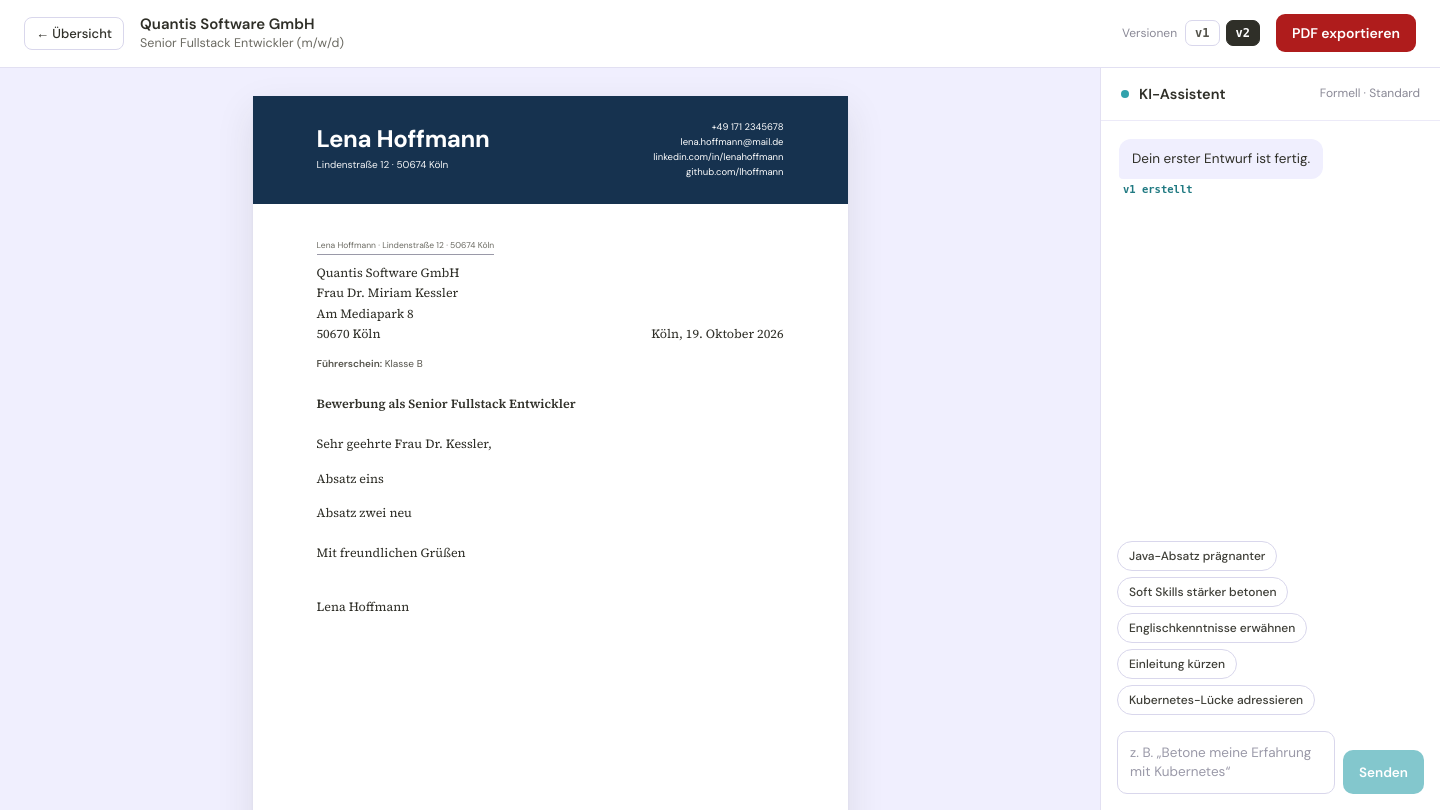
Test: EditorComponent › shows a banner for older versions
The width and height of the screenshot is (1440, 810).
Click the button "v1". click: point(1202, 33)
box: [1185,20,1220,46]
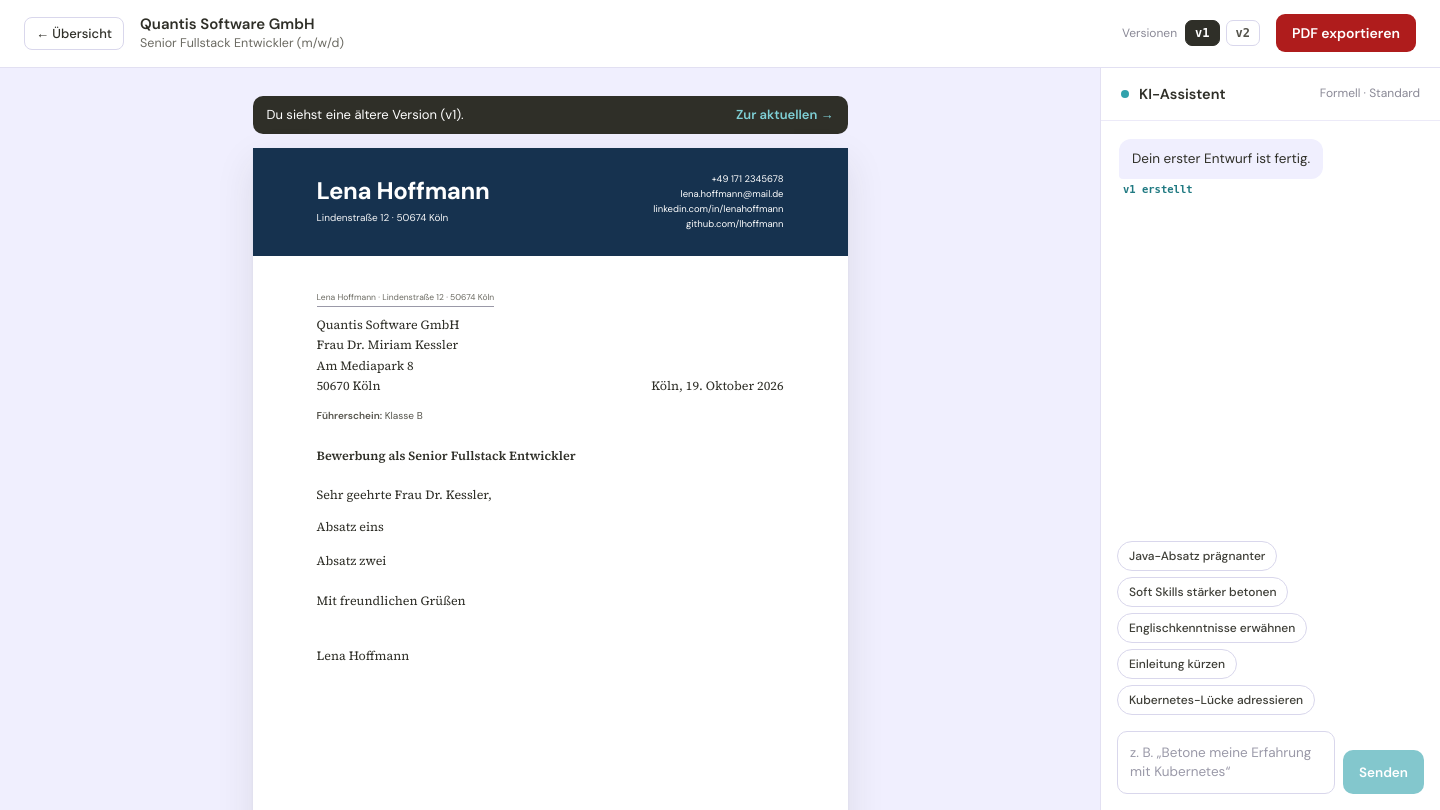
Expected: the message with class "old-banner" shows "Du siehst eine ältere Version (v1).", [266,106,464,122]
Expected: the text "Absatz zwei" is shown, [316,552,386,569]
Click the button with class "to-latest". click: point(785, 115)
box: [736,106,834,123]
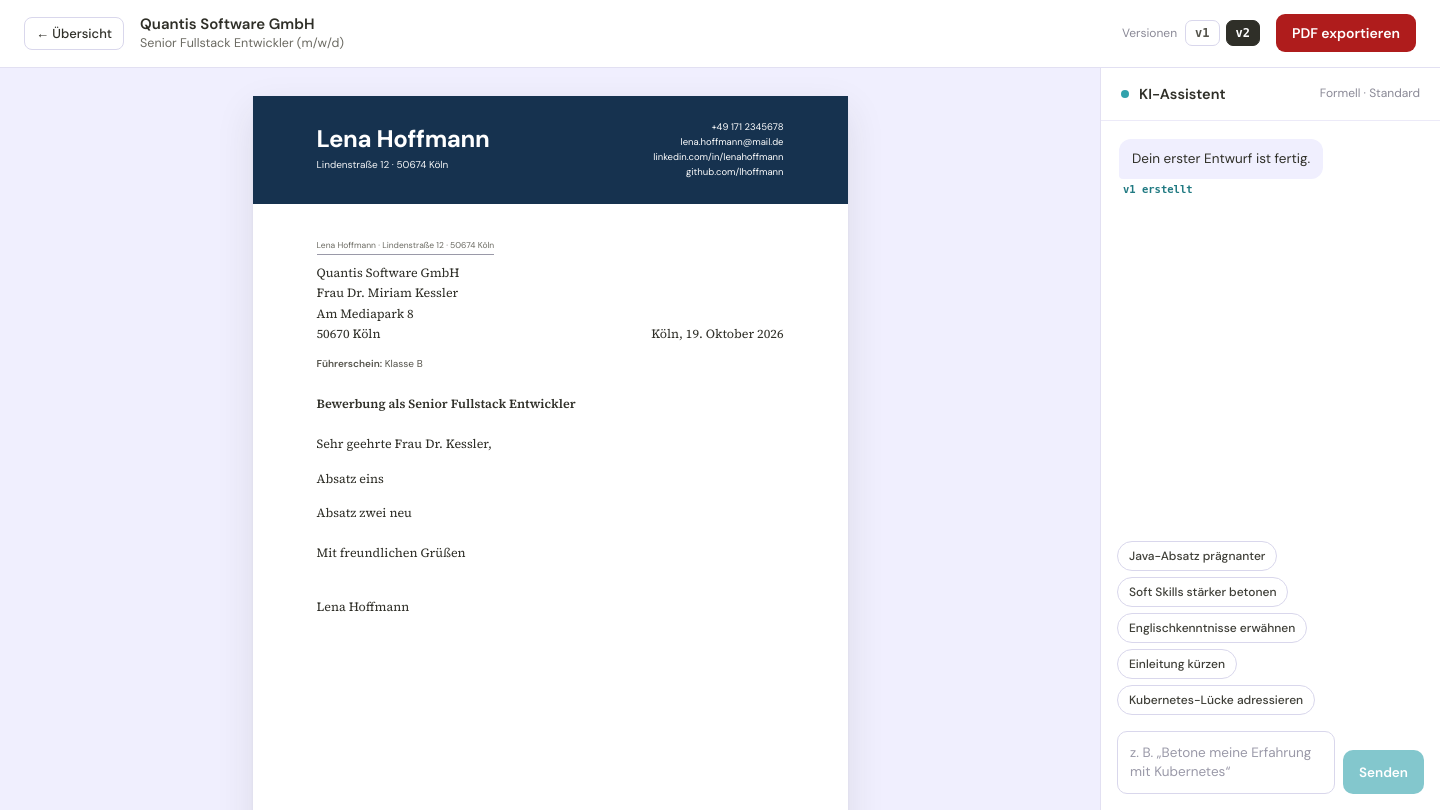
Expected: the message with class "old-banner" is gone
